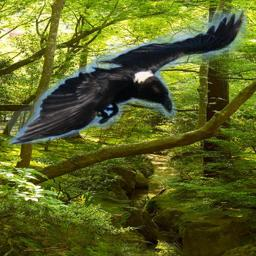Crow: (8, 7, 247, 145)
